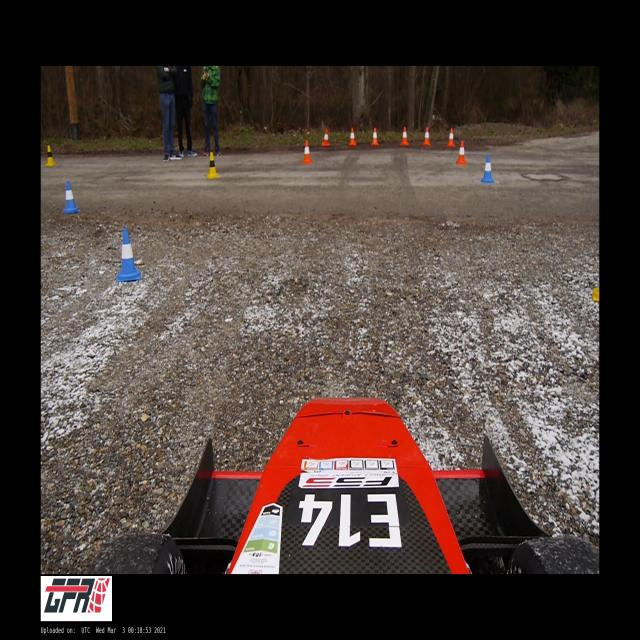blue_cone: (117, 230, 140, 281), (62, 180, 80, 212), (479, 154, 495, 182)
orange_cone: (302, 140, 312, 164), (456, 140, 466, 164), (401, 126, 409, 146), (447, 128, 455, 147), (423, 127, 431, 145), (371, 128, 379, 145), (322, 130, 330, 146), (349, 128, 356, 146)
yellow_cone: (206, 152, 220, 179), (44, 146, 56, 166)
